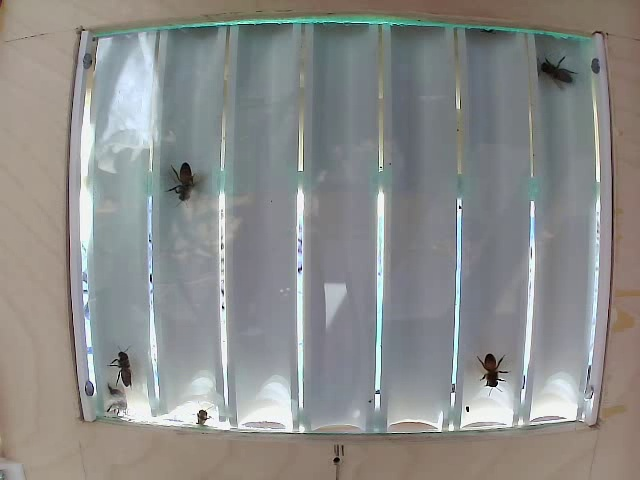bee: (166, 149, 214, 208), (539, 46, 573, 98), (467, 345, 501, 387)
